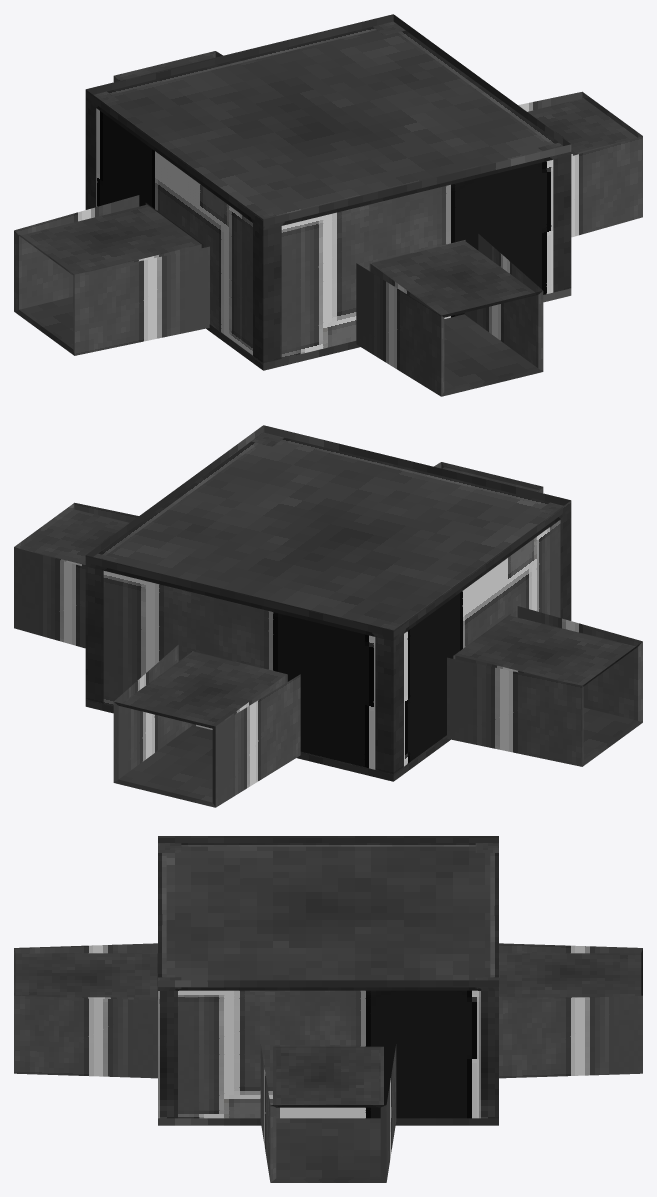
Rendered from Room_Exit_1.fbx.
3 renders of one model, top to bottom at view 1: azimuth 30°, elevation 25°; view 2: azimuth 150°, elevation 25°; view 3: azimuth 270°, elevation 25°, orthographic. The views are drawn at different scales.
Visible parts, largest first — view 1: Room_Exit_1_V5; view 2: Room_Exit_1_V5; view 3: Room_Exit_1_V5.
Part boxes in pixels (x1=…): Room_Exit_1_V5: x1=14, y1=14, x2=642, y2=396; Room_Exit_1_V5: x1=14, y1=425, x2=642, y2=807; Room_Exit_1_V5: x1=14, y1=836, x2=642, y2=1182.
Bounding box in the file's own units: 80.56 × 20.5 × 80.43.
